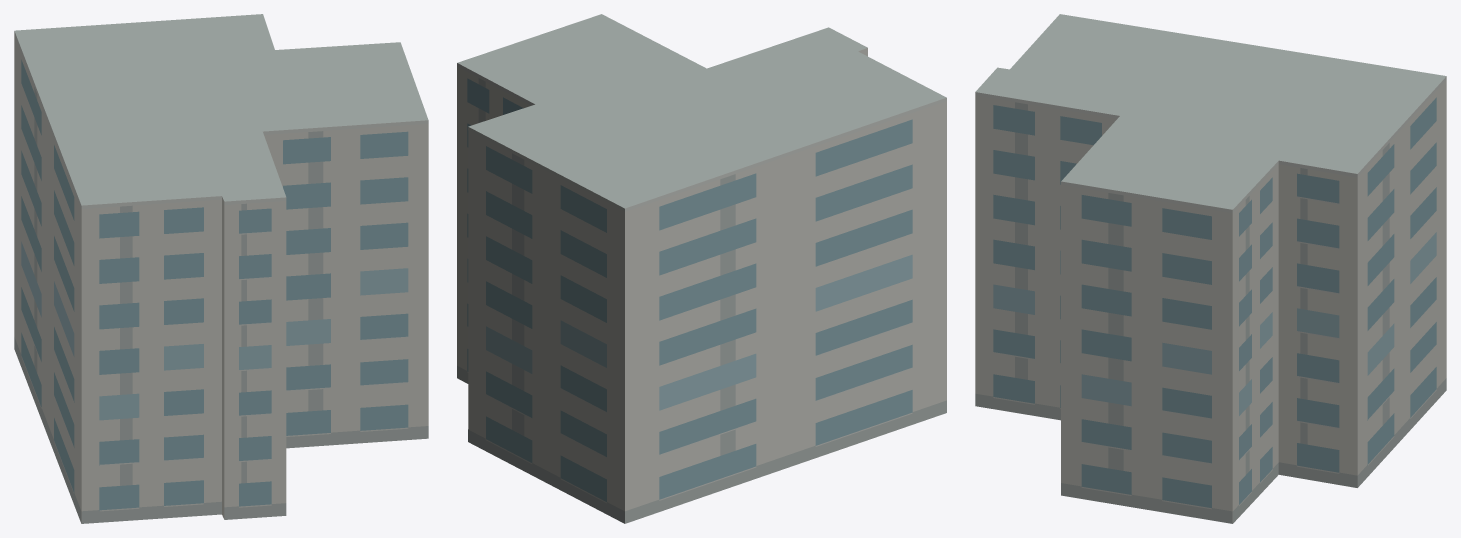
File: survey-upis-32891415.glb
3 views of the same model, side by side, from view 1: azimuth 30°, elevation 25°; view 2: azimuth 150°, elevation 25°; view 3: azimuth 270°, elevation 25° (orthographic).
Visible parts, largest first — view 1: survey-upis-32891415.tmp; view 2: survey-upis-32891415.tmp; view 3: survey-upis-32891415.tmp.
Part boxes in pixels (x1,y1,x2,y2): survey-upis-32891415.tmp: (14, 14, 428, 523); survey-upis-32891415.tmp: (457, 14, 946, 523); survey-upis-32891415.tmp: (975, 14, 1446, 523).
Bounding box in the file's own units: 28.35 × 21.2 × 28.85.
